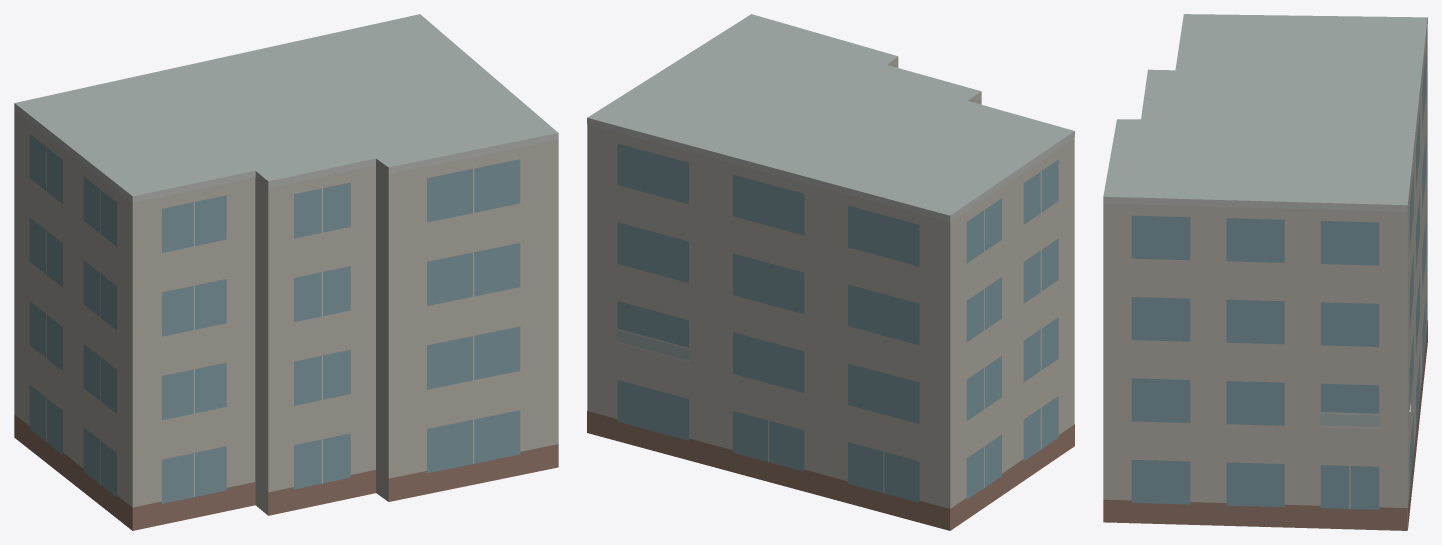
Rendered from survey-upis-32473191.glb.
3 views of the same model, side by side, from view 1: azimuth 30°, elevation 25°; view 2: azimuth 150°, elevation 25°; view 3: azimuth 270°, elevation 25° (orthographic). The views are drawn at different scales.
Parts seen in each view (by area): view 1: survey-upis-32473191.tmp; view 2: survey-upis-32473191.tmp; view 3: survey-upis-32473191.tmp.
Boxes of the visible parts, left/top/right/bottom form: survey-upis-32473191.tmp: left=14, top=14, right=558, bottom=530; survey-upis-32473191.tmp: left=587, top=14, right=1074, bottom=530; survey-upis-32473191.tmp: left=1103, top=14, right=1427, bottom=530.
Size of the model in its own units: 14.98 by 11.89 by 10.74.
